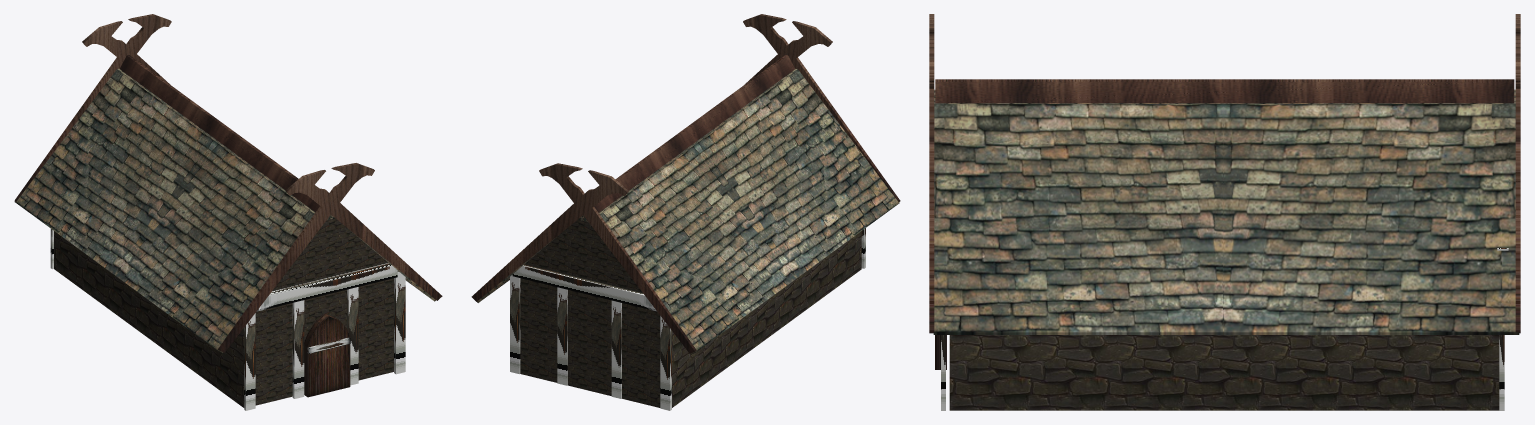
The model's file is Hut.obj.
3 renders of one model, left to right at view 1: azimuth 30°, elevation 25°; view 2: azimuth 150°, elevation 25°; view 3: azimuth 270°, elevation 25°, orthographic. The views are drawn at different scales.
Visible parts, largest first — view 1: Object001, Box001, Line002, Box006, Box007, Line003; view 2: Object001, Box001, Line002, Box006, Box007; view 3: Object001, Box001, Box007, Line002, Box006.
Part boxes in pixels (left/top/right/bottom): Object001: left=14, top=68, right=435, bottom=353; Box001: left=54, top=218, right=393, bottom=407; Line002: left=14, top=14, right=442, bottom=352; Box006: left=50, top=229, right=405, bottom=410; Box007: left=120, top=55, right=319, bottom=212; Line003: left=304, top=313, right=350, bottom=397; Object001: left=477, top=68, right=899, bottom=354; Box001: left=520, top=220, right=861, bottom=407; Line002: left=471, top=14, right=900, bottom=353; Box006: left=510, top=228, right=865, bottom=410; Box007: left=594, top=55, right=794, bottom=212; Object001: left=933, top=89, right=1519, bottom=334; Box001: left=949, top=335, right=1499, bottom=410; Box007: left=935, top=79, right=1514, bottom=103; Line002: left=929, top=14, right=1520, bottom=333; Box006: left=941, top=248, right=1508, bottom=410.
Bounding box in the file's own units: 18.77 × 18 × 29.79.
